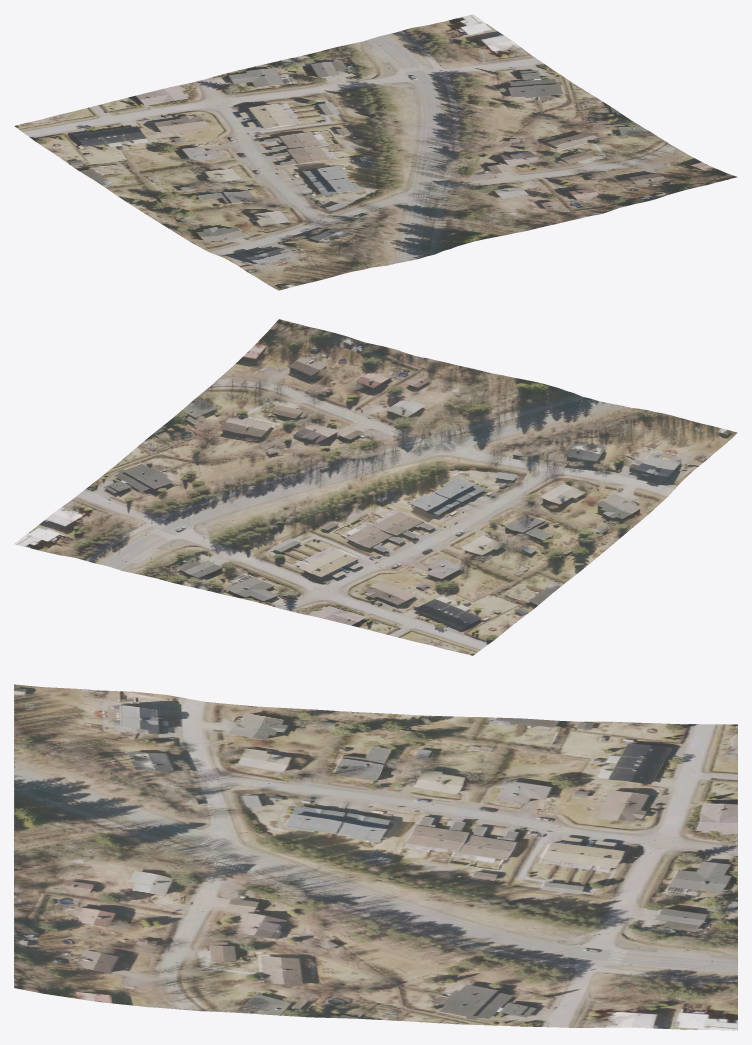
Rendered from CM_Terrain_24490254_6817951.fbx.
3 renders of one model, top to bottom at view 1: azimuth 30°, elevation 25°; view 2: azimuth 150°, elevation 25°; view 3: azimuth 270°, elevation 25°, orthographic. The views are drawn at different scales.
Visible parts, largest first — view 1: CM_Terrain_24490254_6817951_LOD0; view 2: CM_Terrain_24490254_6817951_LOD0; view 3: CM_Terrain_24490254_6817951_LOD0.
Part boxes in pixels (x1,y1,x2,y2): CM_Terrain_24490254_6817951_LOD0: [14, 14, 737, 290]; CM_Terrain_24490254_6817951_LOD0: [14, 319, 737, 655]; CM_Terrain_24490254_6817951_LOD0: [14, 684, 737, 1030].
Size of what is drawn, in the model's own units: 205 by 13.44 by 205.
